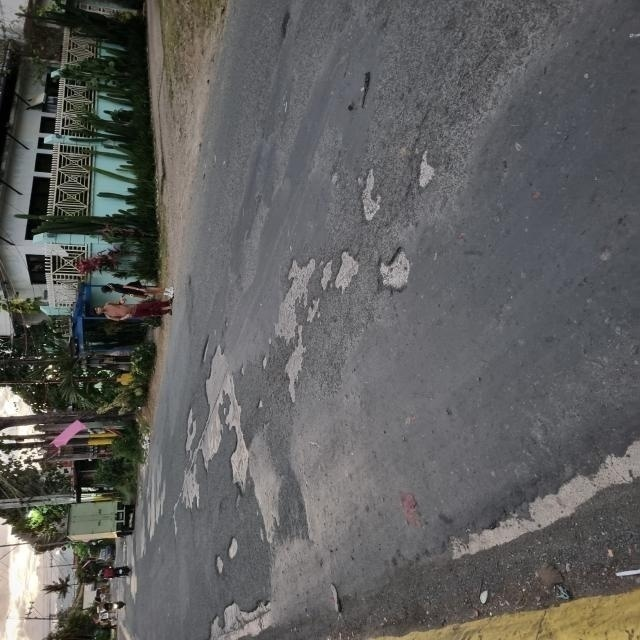pothole: (281, 150, 484, 324)
